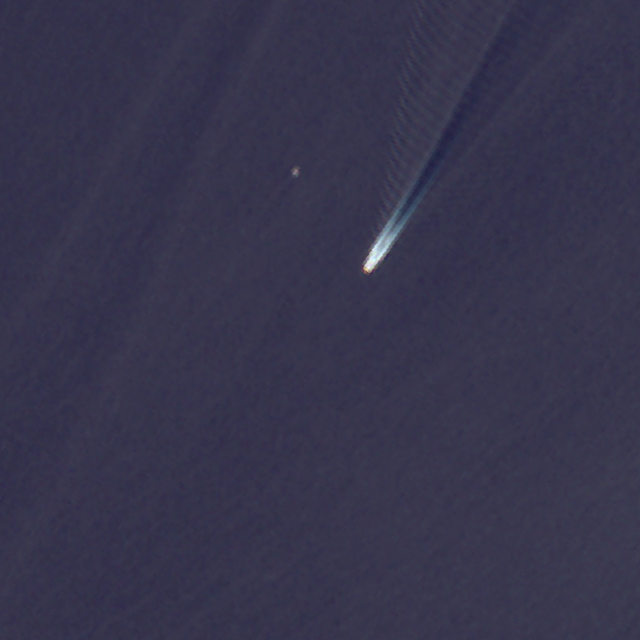wake: (295, 26, 548, 325)
